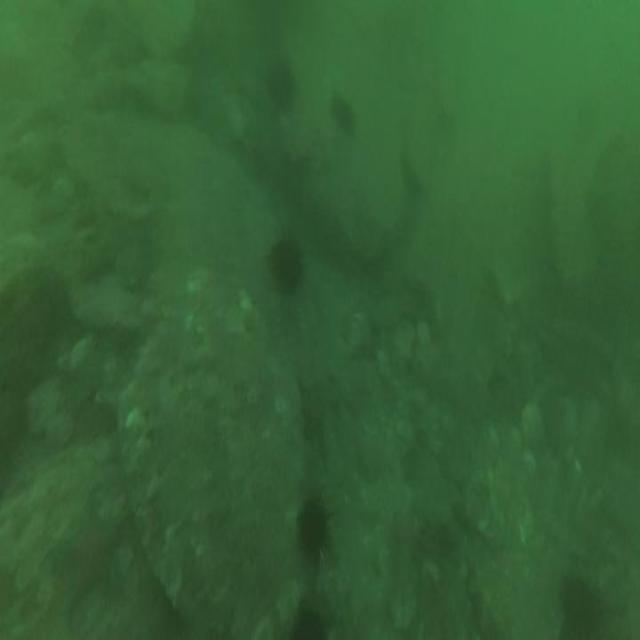echinus: (270, 234, 302, 297), (296, 498, 325, 554), (268, 61, 292, 108), (328, 96, 354, 133)
